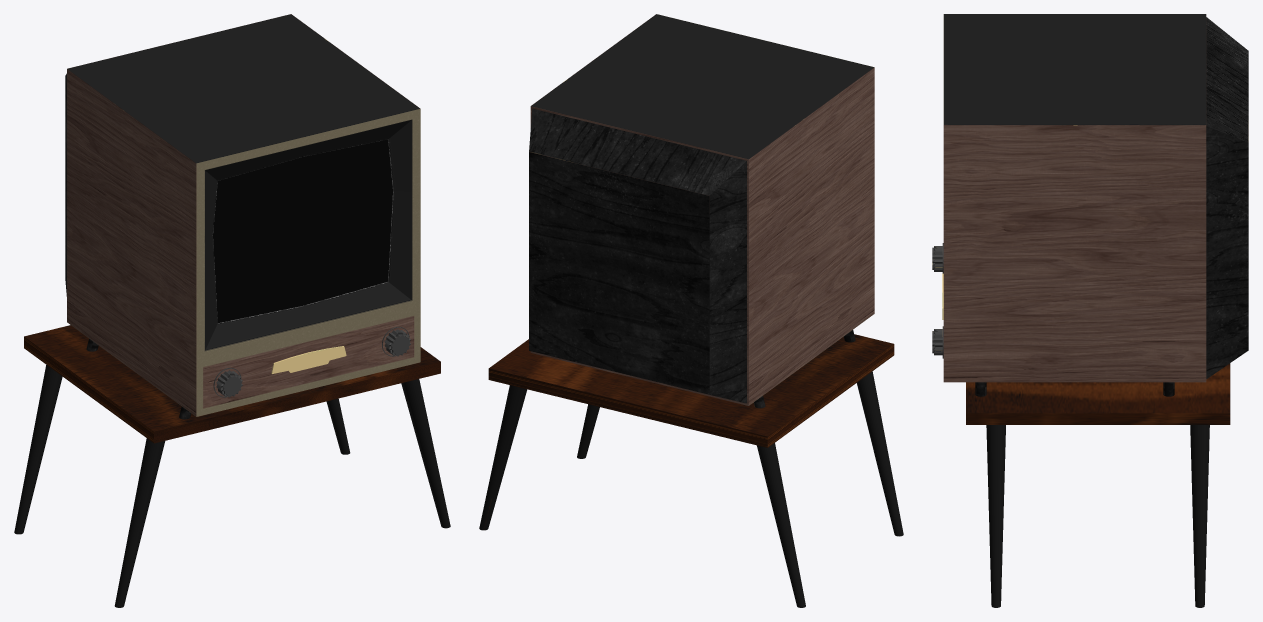
The picture shows the model from 3 angles, left to right: view 1: azimuth 30°, elevation 25°; view 2: azimuth 150°, elevation 25°; view 3: azimuth 270°, elevation 25°; orthographic projection. The views are drawn at different scales.
Visible parts, largest first — view 1: TV, Cube.002; view 2: TV, Cube.002; view 3: TV, Cube.002.
Boxes of the visible parts, <box> form: TV: <box>65,14,420,419</box>; Cube.002: <box>14,325,450,607</box>; TV: <box>529,14,874,408</box>; Cube.002: <box>479,334,903,607</box>; TV: <box>932,14,1248,396</box>; Cube.002: <box>966,363,1230,607</box>.
Size of the model in its own units: 2.98 by 3.83 by 2.41.
Materials: 3 (2 with a texture image).
